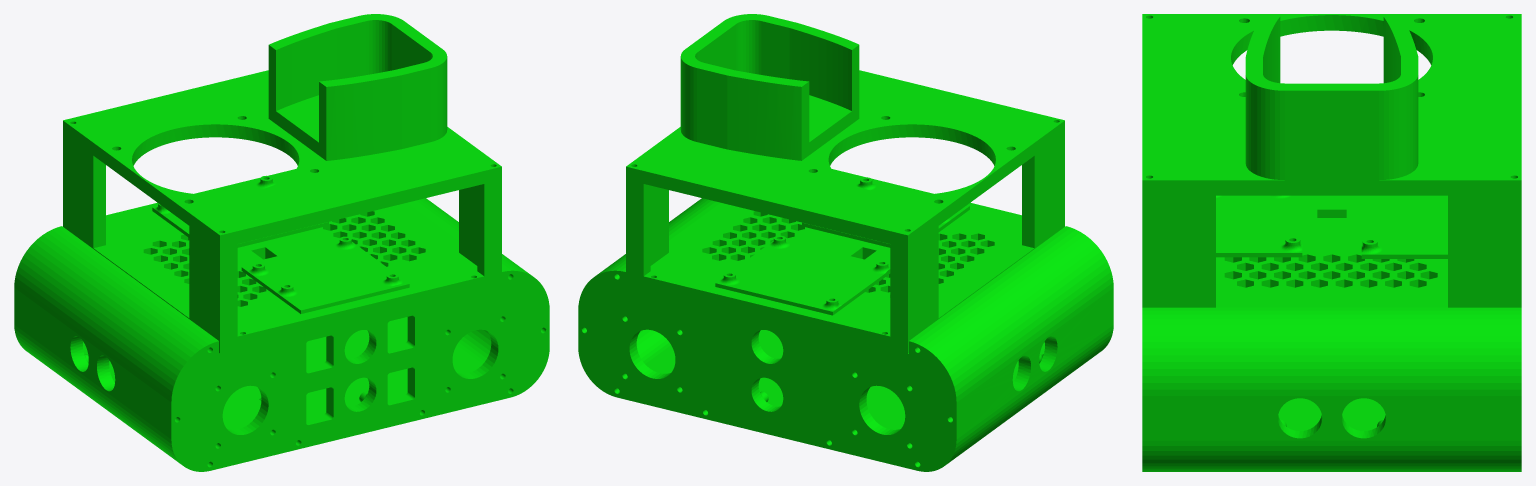
File: Base_completa_simulaçao_v2.dae
3 views of the same model, side by side, from view 1: azimuth 30°, elevation 25°; view 2: azimuth 150°, elevation 25°; view 3: azimuth 270°, elevation 25° (orthographic). The views are drawn at different scales.
Visible parts, largest first — view 1: Base_completa para simulador v2; view 2: Base_completa para simulador v2; view 3: Base_completa para simulador v2.
Part boxes in pixels (x1,y1,x2,y2): Base_completa para simulador v2: (14, 14, 549, 471); Base_completa para simulador v2: (578, 14, 1113, 471); Base_completa para simulador v2: (1142, 14, 1521, 471).
Size of the model in its own units: 0.214 by 0.154 by 0.166.
